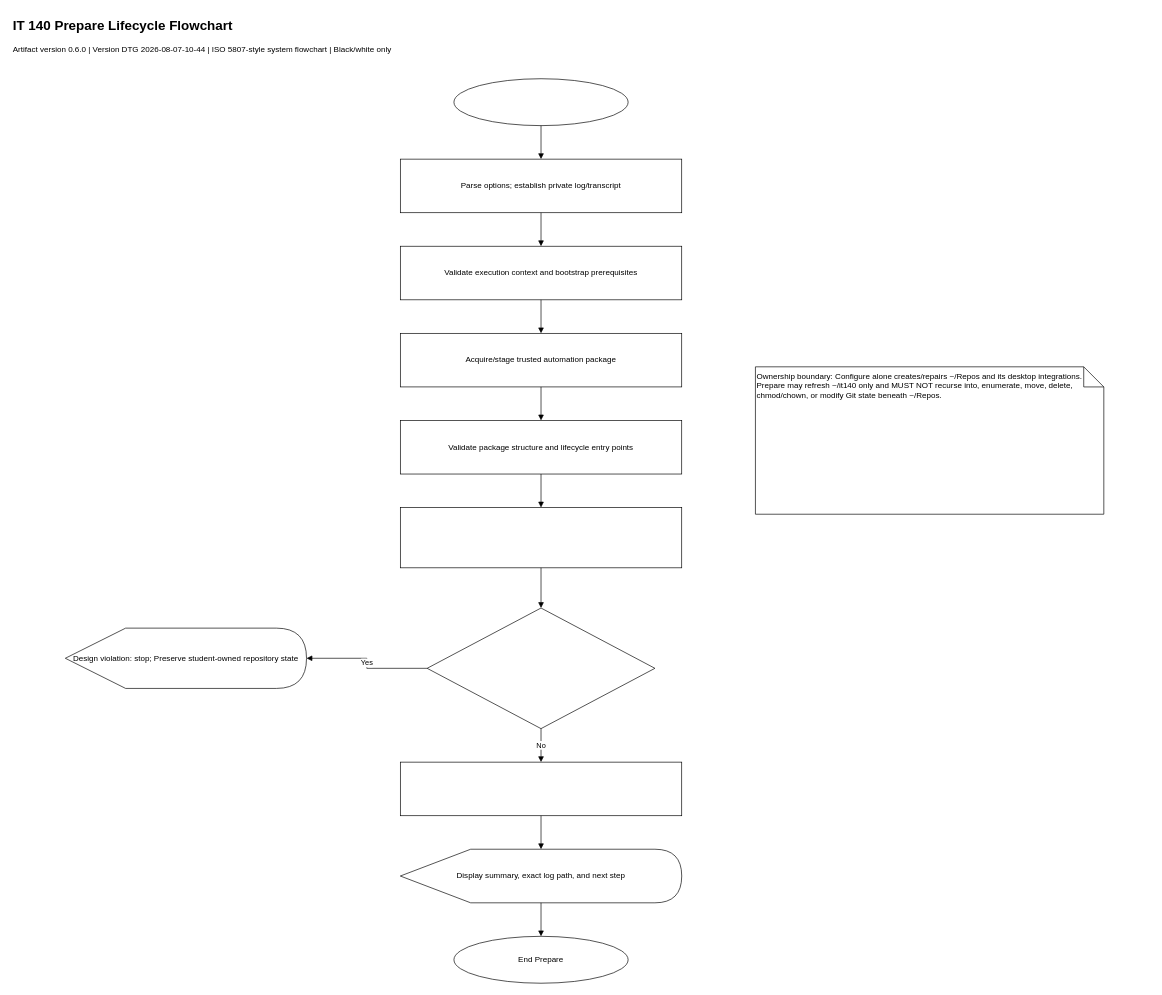
Image size: 1162x995. Some labels were removed from this diagram. Each missing label, with the centre of its shape:
"Atomically refresh course-managed package files under ~/it140" goes at [541,537].
"Did Prepare touch ~/Repos or any student repository?" goes at [540,668].
"Resolve next lifecycle step from deployment profile/workflow" goes at [541,788].
"Start Prepare" goes at [540,102].
